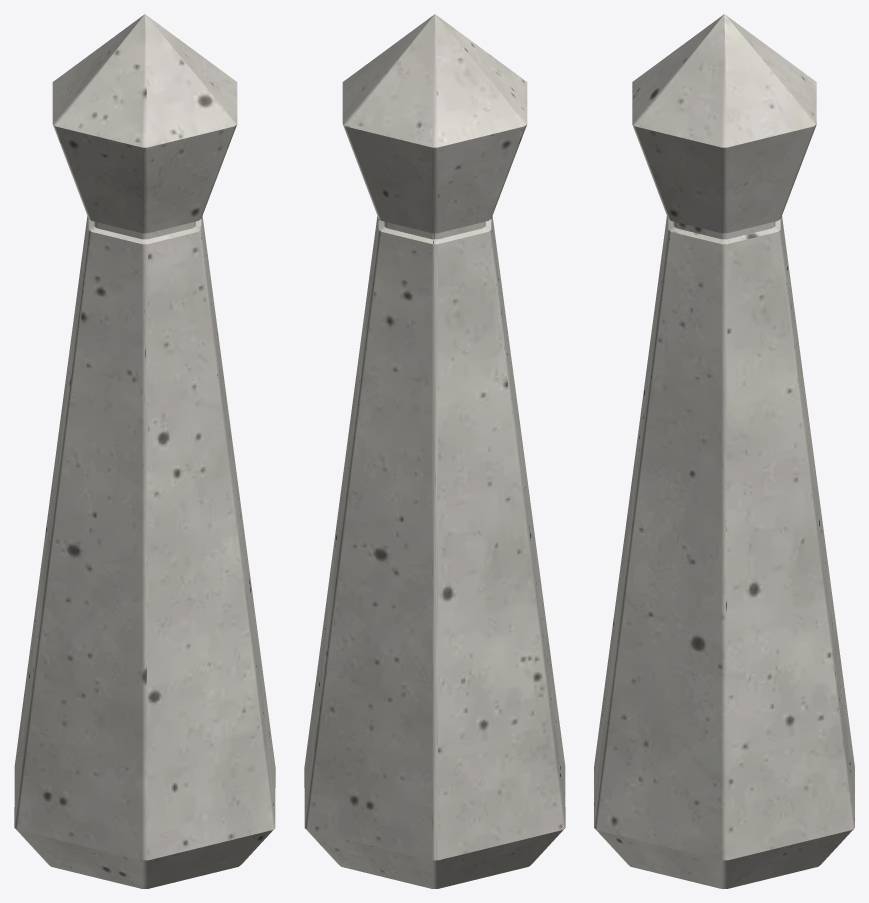
Rendered from hexalith_white_king.glb.
The picture shows the model from 3 angles, left to right: view 1: azimuth 30°, elevation 25°; view 2: azimuth 150°, elevation 25°; view 3: azimuth 270°, elevation 25°; orthographic projection.
Visible parts, largest first — view 1: HEXALITH_white_king; view 2: HEXALITH_white_king; view 3: HEXALITH_white_king.
Boxes of the visible parts, left/top/right/bottom form: HEXALITH_white_king: left=14, top=14, right=275, bottom=888; HEXALITH_white_king: left=304, top=14, right=565, bottom=888; HEXALITH_white_king: left=594, top=14, right=854, bottom=888.
Bounding box in the file's own units: 0.0307 × 0.094 × 0.0268.
1 material, 1 textured.
